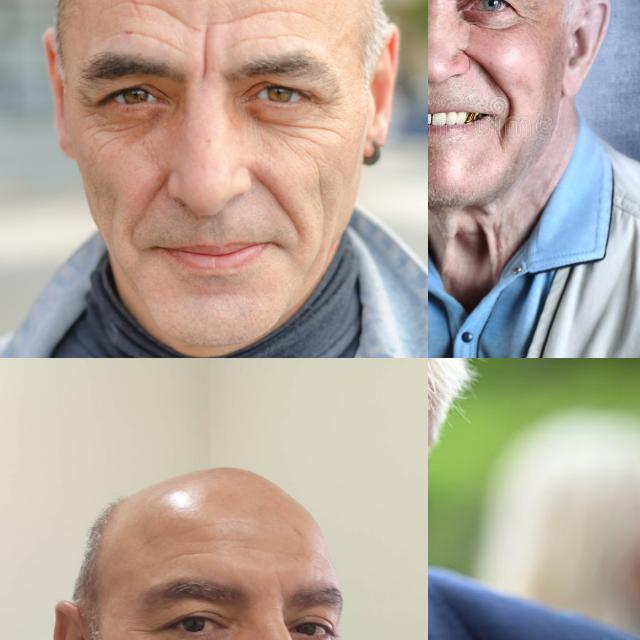crows_feet: (77, 84, 101, 118), (313, 90, 343, 114), (125, 620, 155, 638)
forehead: (123, 26, 179, 50), (221, 0, 279, 22), (120, 0, 176, 20), (170, 547, 214, 565), (246, 28, 294, 44)
frown_line: (194, 30, 213, 76), (272, 571, 292, 601)
gummy_smile: (463, 48, 512, 96), (260, 174, 292, 222), (140, 176, 168, 210)
masseter: (313, 168, 329, 216)
sad_smile: (498, 110, 518, 152)
